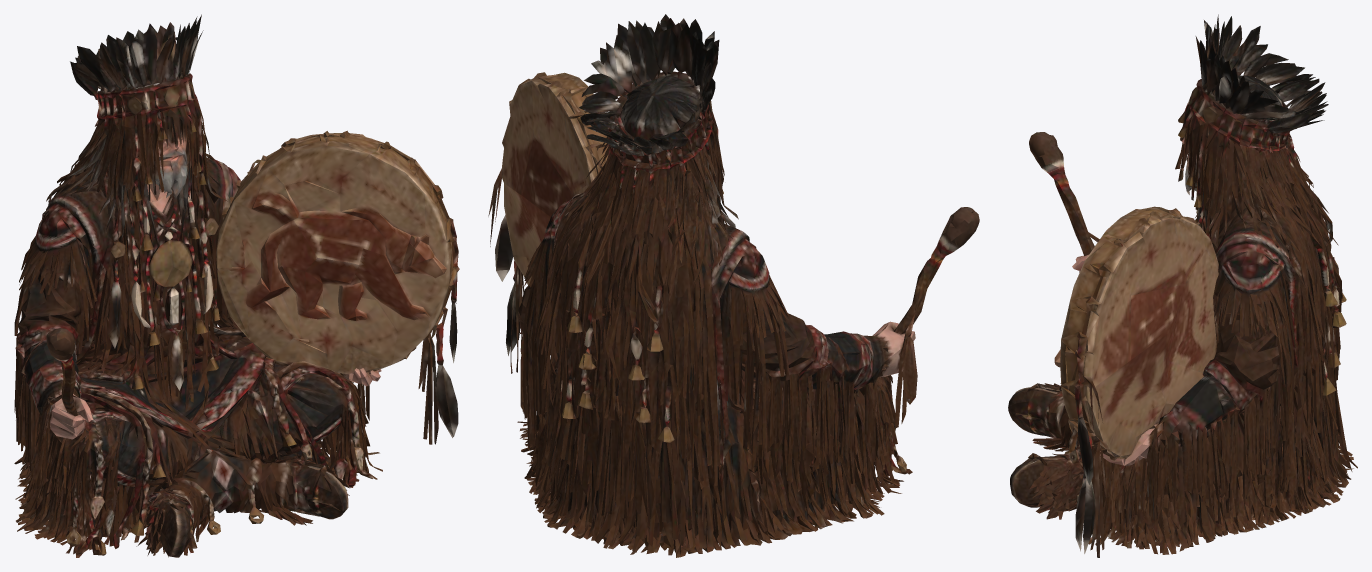
File: shaman_sit_web.glb
3 views of the same model, side by side, from view 1: azimuth 30°, elevation 25°; view 2: azimuth 150°, elevation 25°; view 3: azimuth 270°, elevation 25° (orthographic). The views are drawn at different scales.
Visible parts, largest first — view 1: output_unwrapped; view 2: output_unwrapped; view 3: output_unwrapped.
Boxes of the visible parts, x1,y1,x2,y2 form: output_unwrapped: (14,14,459,557); output_unwrapped: (488,14,979,557); output_unwrapped: (1008,14,1357,557).
Bounding box in the file's own units: 1.89 × 1.89 × 1.34.
1 material, 1 textured.
